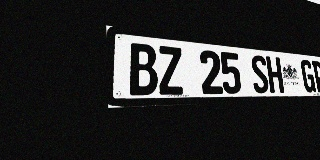2: (199, 50, 223, 94)
5: (220, 52, 242, 94)
B: (128, 43, 159, 95)
G: (300, 59, 316, 93)
H: (266, 56, 284, 93)
P: (312, 61, 320, 92)
S: (250, 55, 270, 93)
Z: (157, 45, 185, 95)
